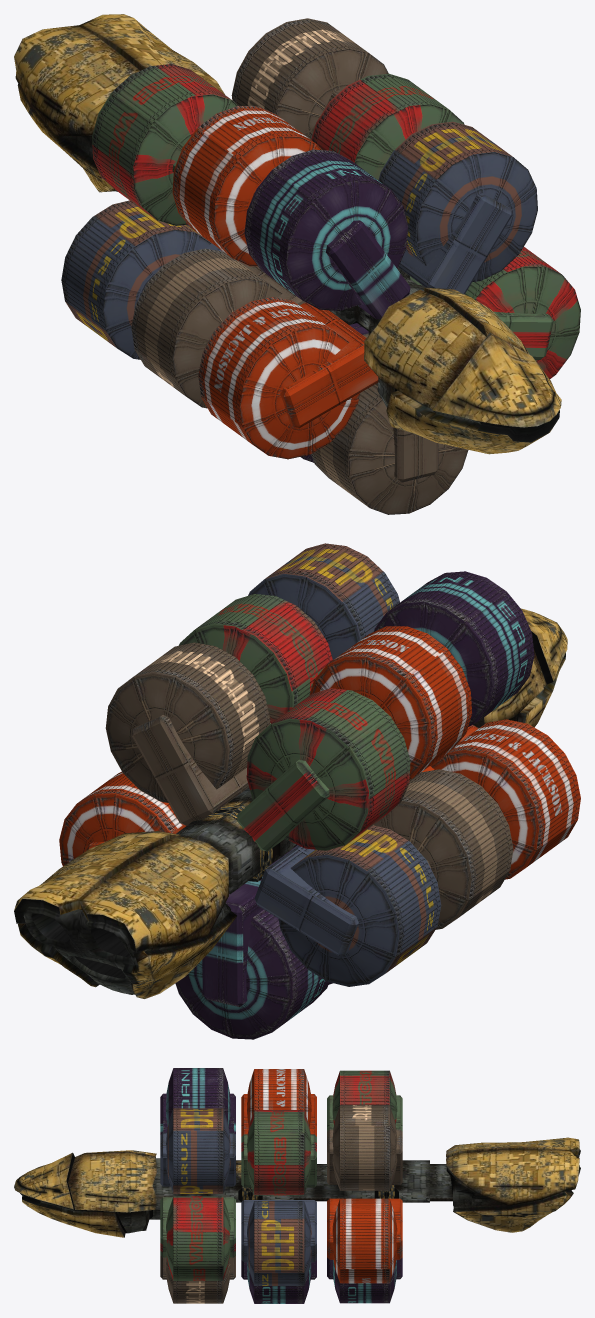
The model's file is stoic.obj.
3 views of the same model, one above another, from view 1: azimuth 30°, elevation 25°; view 2: azimuth 150°, elevation 25°; view 3: azimuth 270°, elevation 25° (orthographic). The views are drawn at different scales.
Bounding box in the file's own units: 555 × 540 × 1323.
Materials: 6 (6 with a texture image).
